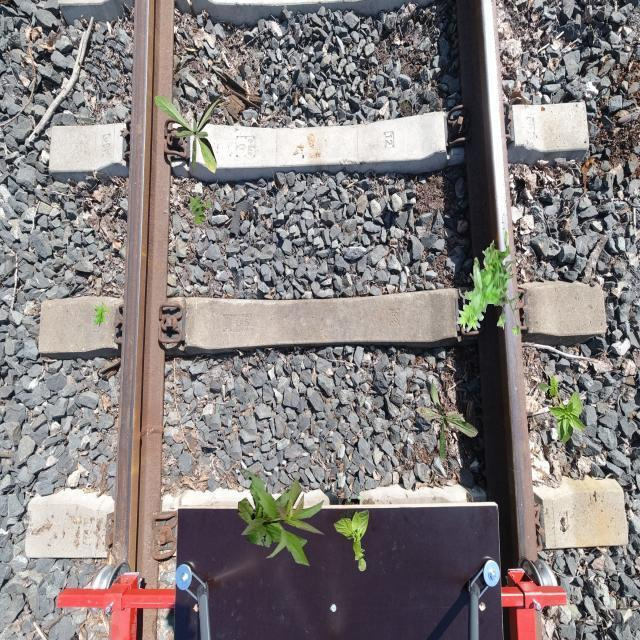Plant: (238, 469, 326, 566), (456, 230, 520, 338), (154, 94, 226, 175), (415, 378, 479, 462), (539, 373, 587, 444), (334, 509, 369, 572), (188, 195, 212, 225), (94, 302, 112, 326)
